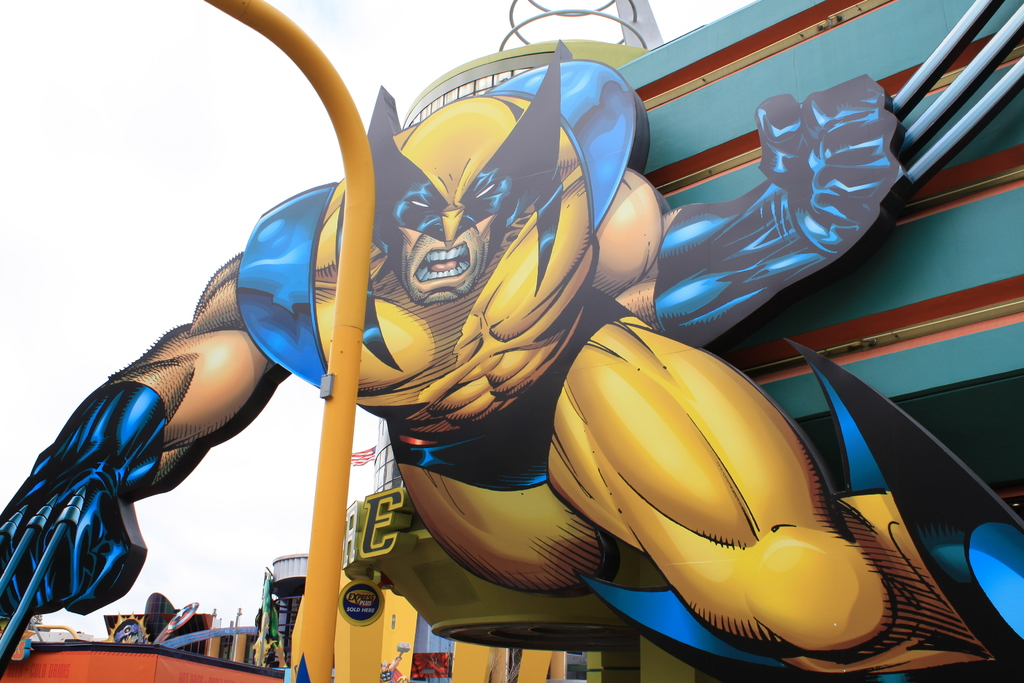Person: (0, 39, 1023, 683)
